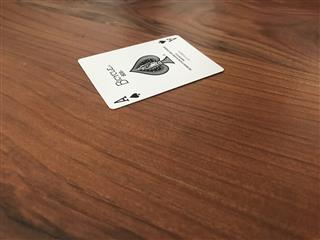AceOfSpades: (77, 34, 224, 109)
